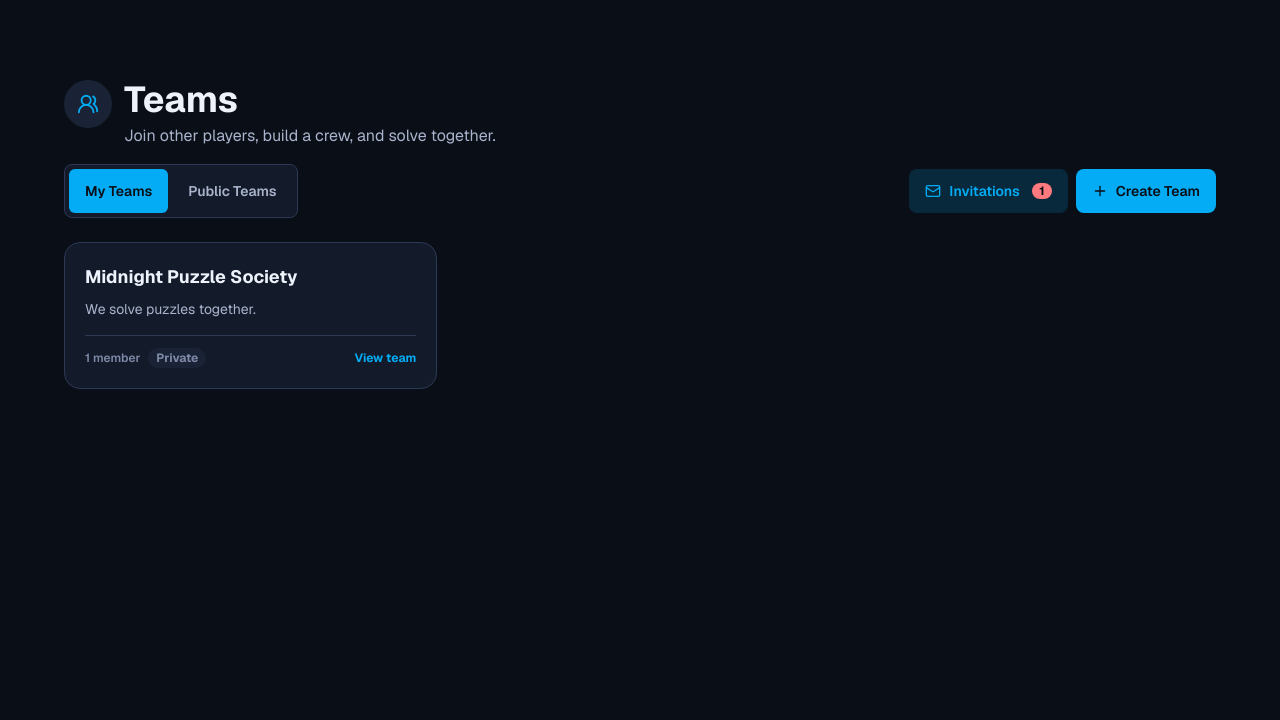
it: Teams hub page — existing modal wiring › 55. Invitations control opens PendingInvitations
Click the button with test id "teams-hub-invitations": (989, 191) top-left (909, 169), bottom-right (1068, 213)
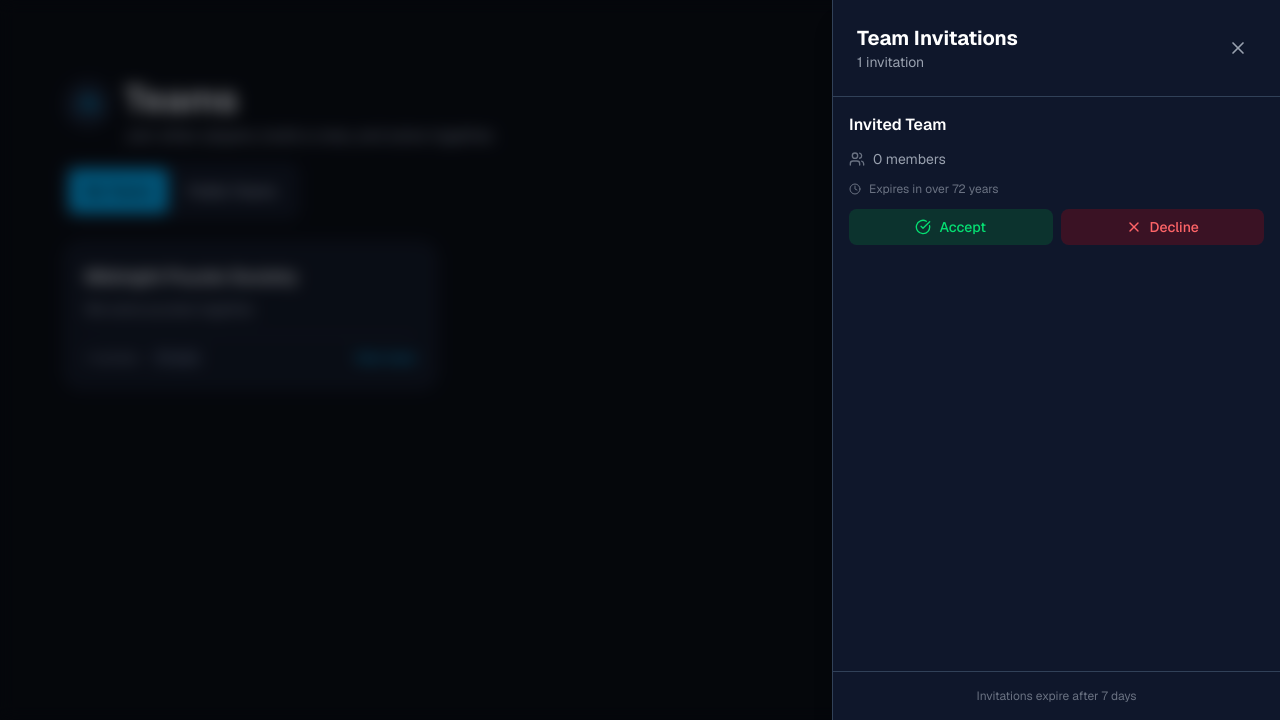
Result: the heading "Team Invitations" is shown at top-left (857, 24), bottom-right (1018, 52)
